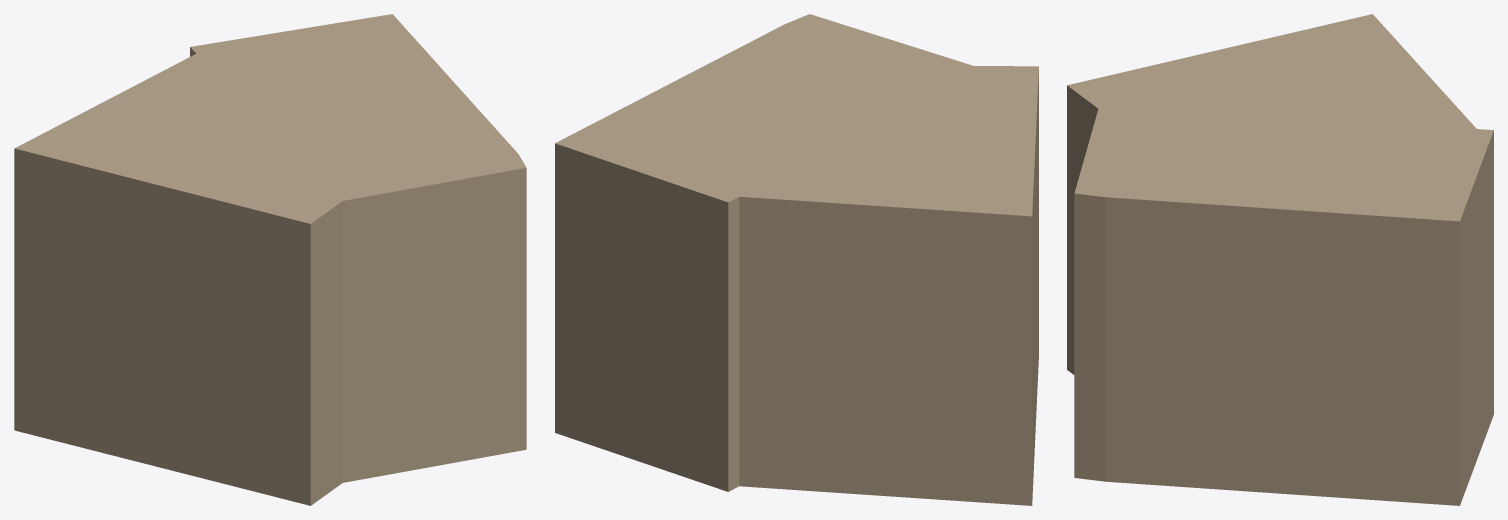
Rendered from bld_98768103.dae.
3 renders of one model, left to right at view 1: azimuth 30°, elevation 25°; view 2: azimuth 150°, elevation 25°; view 3: azimuth 270°, elevation 25°, orthographic. The views are drawn at different scales.
Parts seen in each view (by area): view 1: The Cloakroom; view 2: The Cloakroom; view 3: The Cloakroom.
Boxes of the visible parts, bbox=[...] form: The Cloakroom: bbox=[14, 14, 526, 505]; The Cloakroom: bbox=[555, 14, 1038, 505]; The Cloakroom: bbox=[1067, 14, 1493, 505].
Bounding box in the file's own units: 12.51 × 10.88 × 8.
